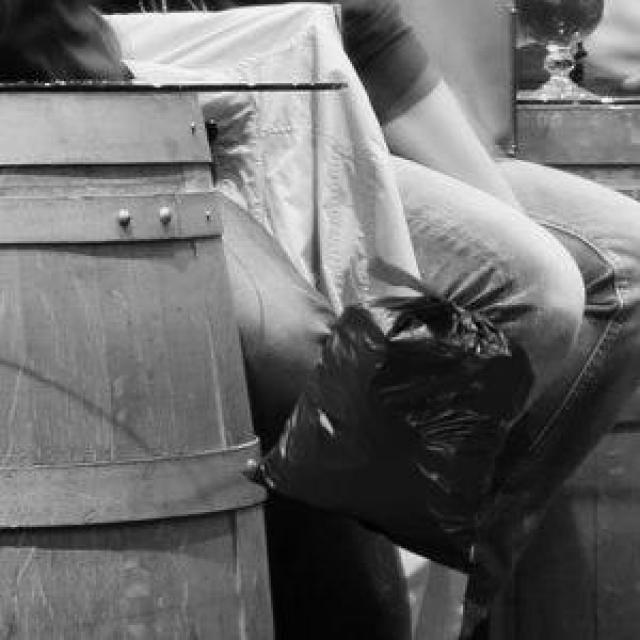miscellaneous trash: (239, 250, 531, 576)
